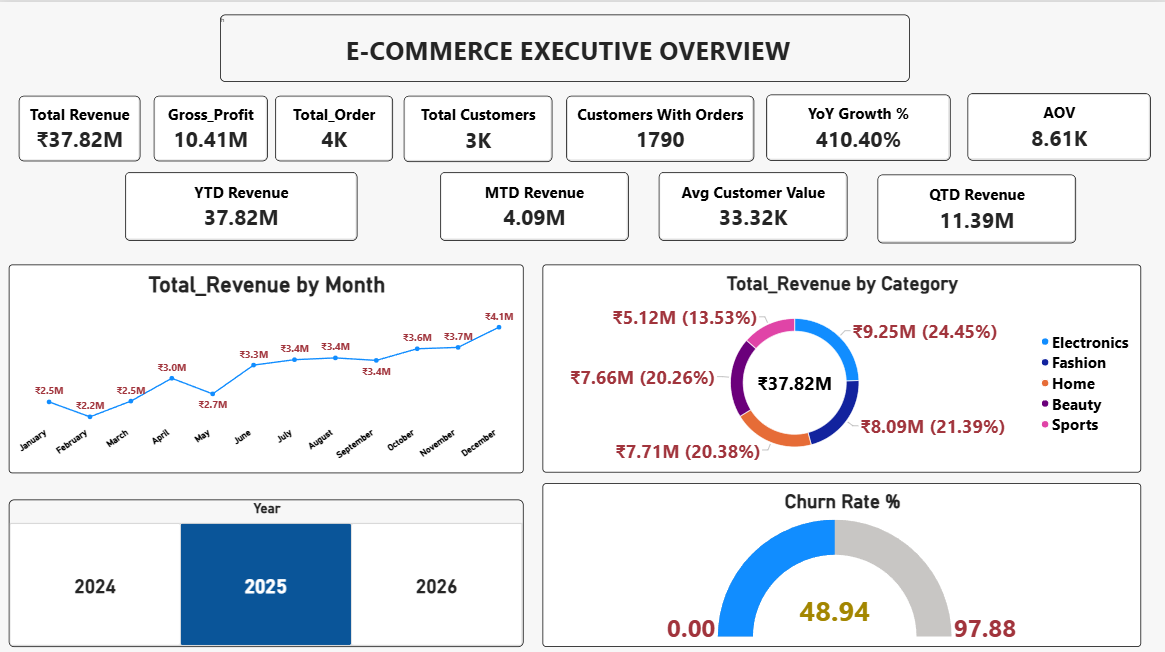

This screenshot's page, from the dashboard's own definition file:
{"tool":"powerbi","page":{"name":"Page 3","canvas":[2560,1440],"ordinal":0},"visuals":[{"type":"cardVisual","fields":{"Data":["Measures (3).Total_Revenue"]},"box":[41.2,205.8,267.6,144.1],"z":0},{"type":"cardVisual","fields":{"Data":["Measures (3).Gross_Profit"]},"box":[337.6,205.8,250,144],"z":1000},{"type":"cardVisual","fields":{"Data":["Measures (3).Total_Order"]},"box":[603.8,205.8,259.3,144.1],"z":2000},{"type":"cardVisual","fields":{"Data":["Measures (3).Total Customers"]},"box":[886.5,205.8,326.2,145.2],"z":3000},{"type":"cardVisual","fields":{"Data":["Measures (3).YoY Growth %"]},"box":[1682.3,203.1,404.8,145.2],"z":4000},{"type":"cardVisual","fields":{"Data":["Measures (3).Customers With Orders"]},"box":[1243.2,205.8,412.6,144.8],"z":5000},{"type":"cardVisual","fields":{"Data":["Measures (3).AOV"]},"box":[2124.2,200.3,402.4,147.6],"z":6000},{"type":"lineChart","fields":{"Category":["dates.Date.Variation.Date Hierarchy.Month"],"Y":["Measures (3).Total_Revenue"]},"box":[19.2,576.3,1130.7,458.3],"z":7000},{"type":"donutChart","fields":{"Category":["Dim_Products.Category"],"Y":["Measures (3).Total_Revenue"]},"box":[1190.5,576.2,1314.3,457.1],"z":8000},{"type":"gauge","fields":{"Y":["Measures (3).Churn Rate %"]},"box":[1191.1,1056.6,1314.6,359.5],"z":9000},{"type":"advancedSlicerVisual","fields":{"Values":["dates.Date.Variation.Date Hierarchy.Year"]},"box":[19.2,1092.3,1130.7,323.8],"z":10000},{"type":"textbox","box":[483.3,26.2,1514.3,147.6],"z":11000},{"type":"cardVisual","fields":{"Data":["Measures (3).YTD Revenue"]},"box":[274.4,373.2,510.5,150.9],"z":12000},{"type":"cardVisual","fields":{"Data":["Measures (3).MTD Revenue"]},"box":[966,373.2,414.4,150.9],"z":13000},{"type":"cardVisual","fields":{"Data":["Measures (3).QTD Revenue"]},"box":[1926.6,378.7,436.4,150.9],"z":14000},{"type":"cardVisual","fields":{"Data":["Measures (3).Avg Customer Value"]},"box":[1446.3,373.2,414.4,150.9],"z":15000}]}

Visuals, with their boxes in screenshot pixels (x1, y1, x2, y2), scaled from the page's 2560x1440 canvas onto the 1165x652 screenshot:
cardVisual - Measures (3).Total_Revenue: bbox=[19, 93, 141, 158]
cardVisual - Measures (3).Gross_Profit: bbox=[154, 93, 267, 158]
cardVisual - Measures (3).Total_Order: bbox=[275, 93, 393, 158]
cardVisual - Measures (3).Total Customers: bbox=[403, 93, 552, 159]
cardVisual - Measures (3).YoY Growth %: bbox=[766, 92, 950, 158]
cardVisual - Measures (3).Customers With Orders: bbox=[566, 93, 754, 159]
cardVisual - Measures (3).AOV: bbox=[967, 91, 1150, 158]
lineChart - dates.Date.Variation.Date Hierarchy.Month x Measures (3).Total_Revenue: bbox=[9, 261, 523, 468]
donutChart - Dim_Products.Category x Measures (3).Total_Revenue: bbox=[542, 261, 1140, 468]
gauge - Measures (3).Churn Rate %: bbox=[542, 478, 1140, 641]
advancedSlicerVisual - dates.Date.Variation.Date Hierarchy.Year: bbox=[9, 495, 523, 641]
textbox: bbox=[220, 12, 909, 79]
cardVisual - Measures (3).YTD Revenue: bbox=[125, 169, 357, 237]
cardVisual - Measures (3).MTD Revenue: bbox=[440, 169, 628, 237]
cardVisual - Measures (3).QTD Revenue: bbox=[877, 171, 1075, 240]
cardVisual - Measures (3).Avg Customer Value: bbox=[658, 169, 847, 237]
